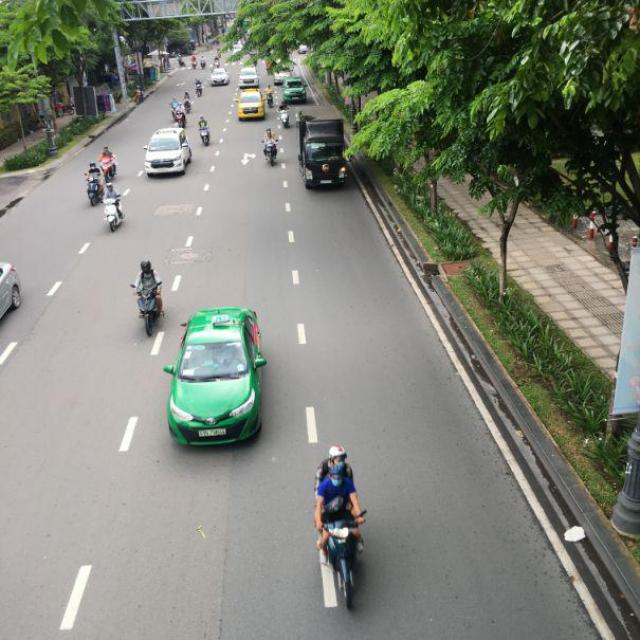car: (164, 304, 270, 448), (144, 130, 191, 177), (236, 91, 265, 120), (284, 78, 307, 104), (238, 67, 258, 86), (212, 67, 231, 85)
motorcycle: (310, 488, 371, 609), (137, 286, 163, 337), (104, 189, 130, 234), (80, 174, 106, 208), (262, 139, 279, 167), (198, 117, 210, 145)
truck: (299, 115, 347, 191)
